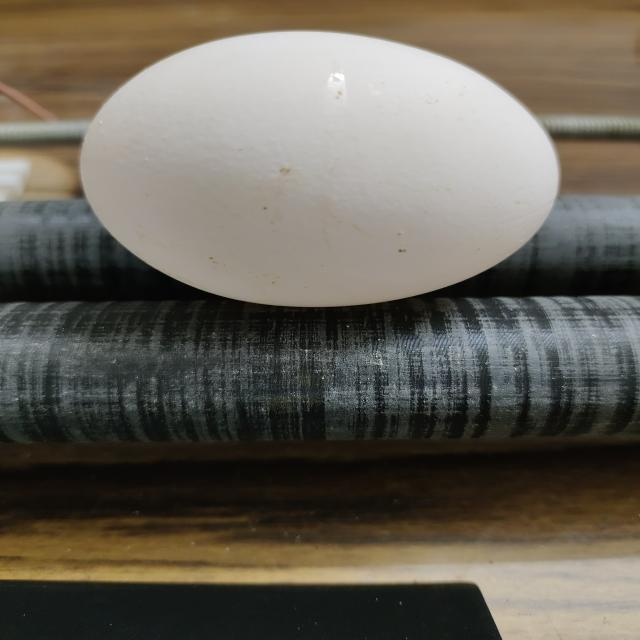Eggs: (78, 30, 560, 308)
